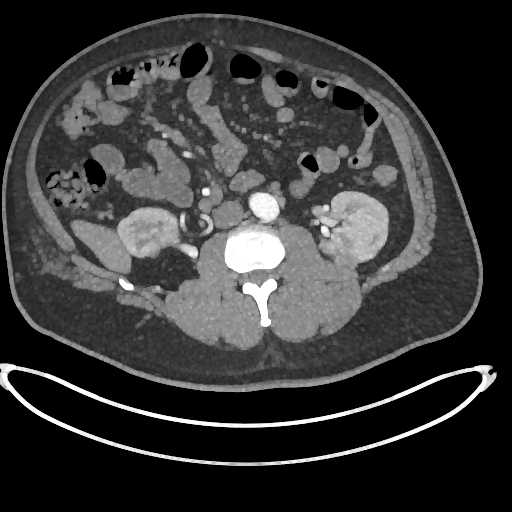Lesion: (331, 244, 361, 270)
